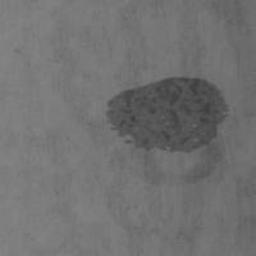Oil spot: (105, 76, 230, 154)
